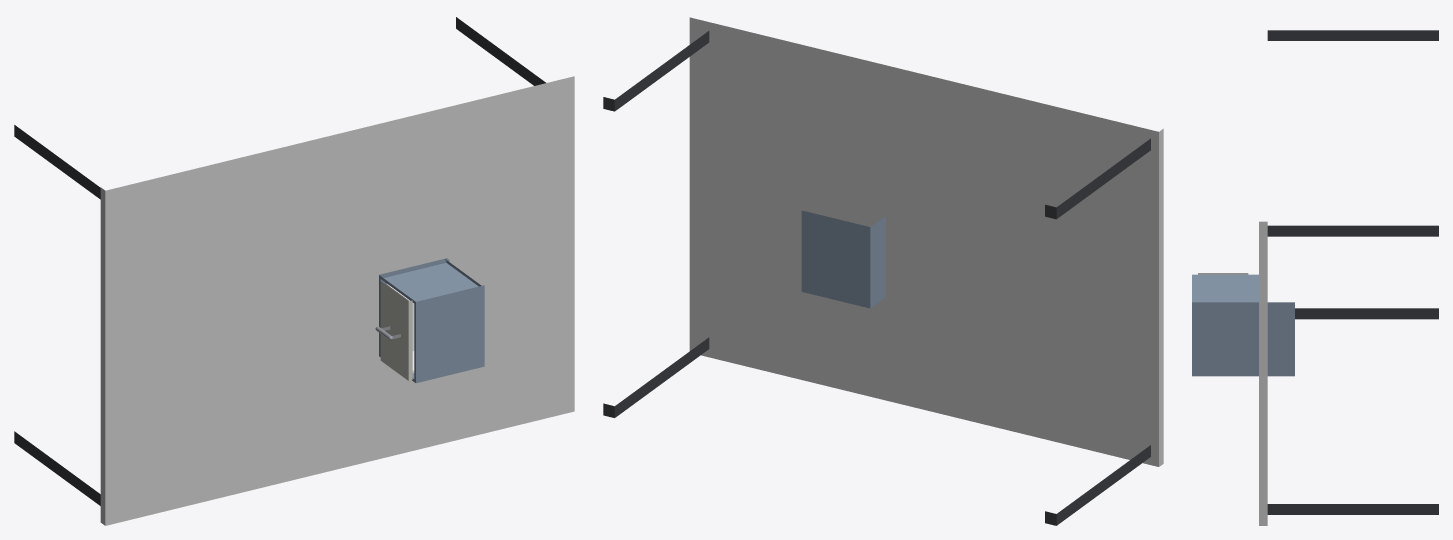
The model's file is t2_c525083bdb.glb.
3 views of the same model, side by side, from view 1: azimuth 30°, elevation 25°; view 2: azimuth 150°, elevation 25°; view 3: azimuth 270°, elevation 25° (orthographic). The views are drawn at different scales.
Parts seen in each view (by area): view 1: s0, s1, s2; view 2: s0, s1; view 3: s0, s1.
Boxes of the visible parts, x1,y1,x2,y2 form: s0: [14, 17, 574, 525]; s1: [379, 258, 484, 383]; s2: [375, 281, 414, 380]; s0: [603, 17, 1163, 525]; s1: [801, 210, 885, 308]; s0: [1259, 30, 1438, 525]; s1: [1192, 274, 1294, 376].
Bounding box in the file's own units: 2.05 × 1.4 × 1.03.
